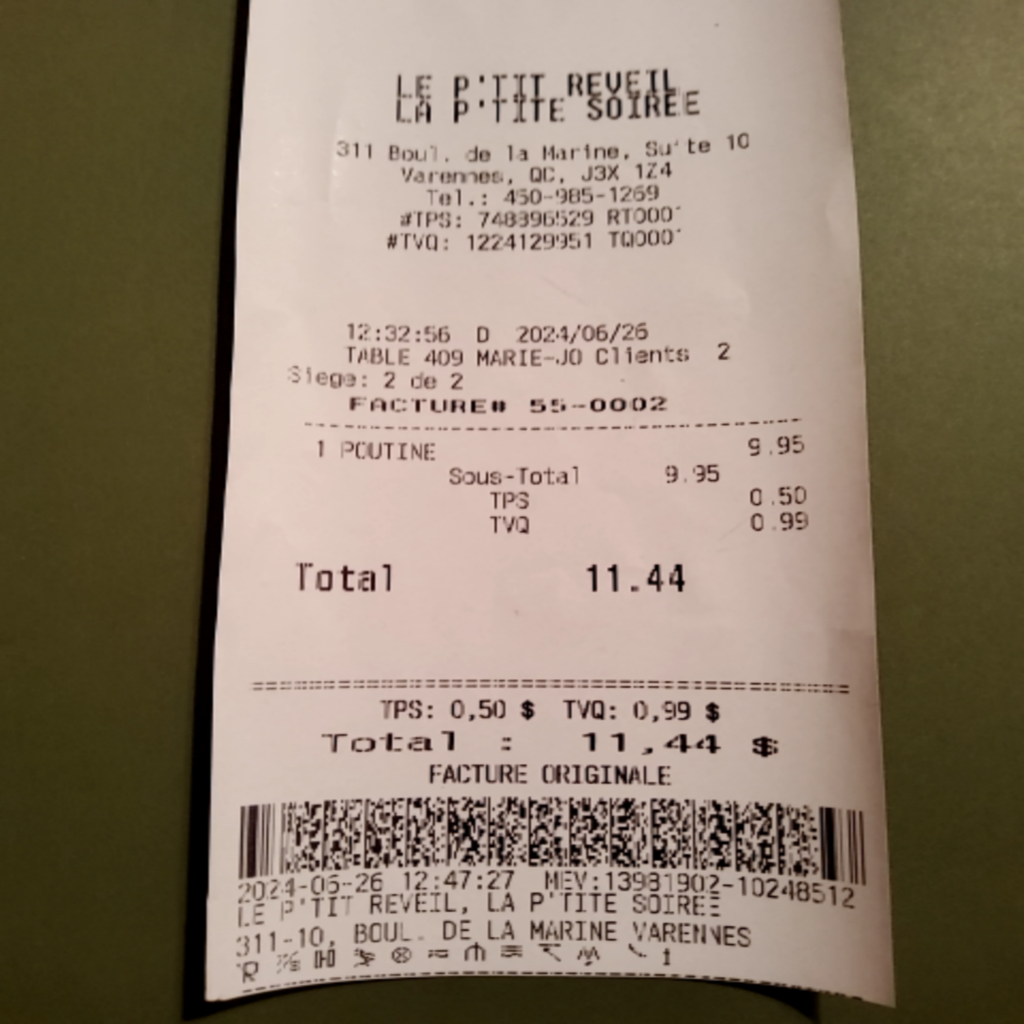recipt: (201, 0, 888, 1009)
